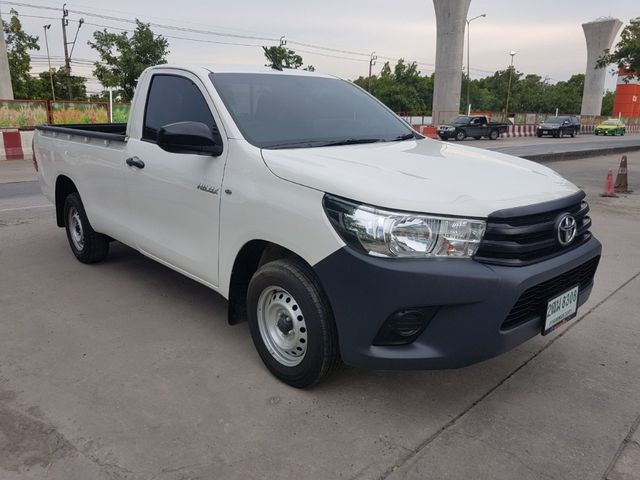pickup: (30, 61, 604, 391)
